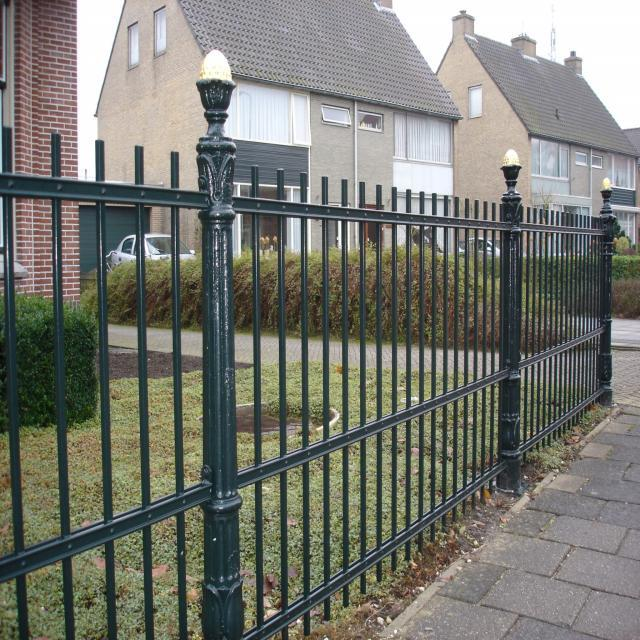fence line: (24, 133, 503, 634), (427, 218, 623, 444)
